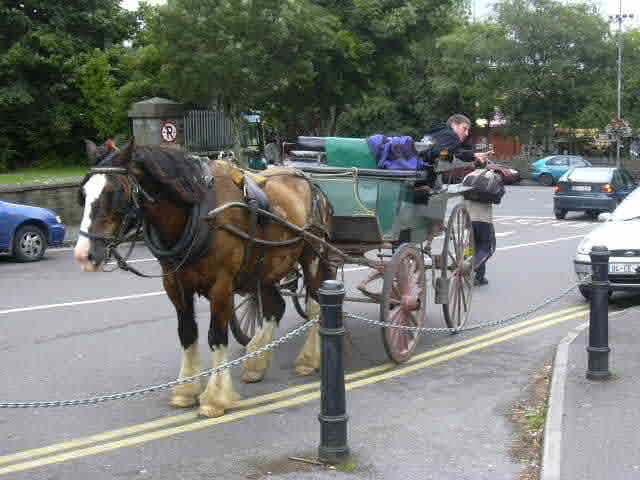horse: (77, 141, 337, 418)
